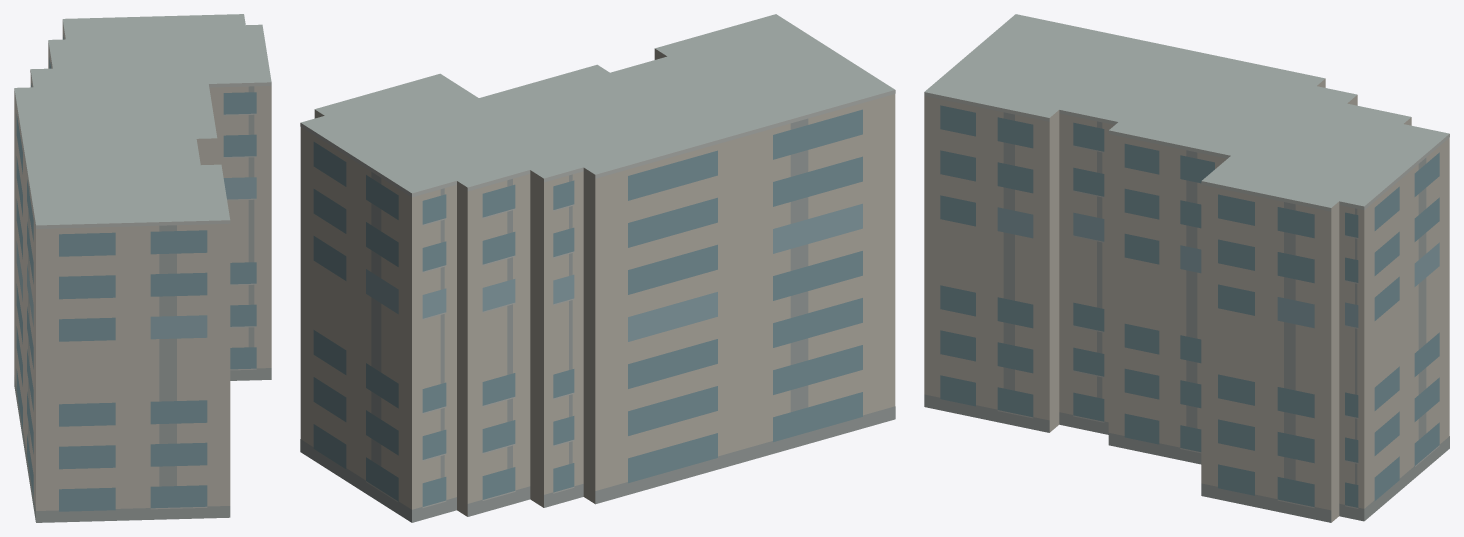
The model's file is survey-upis-32749530.glb.
3 views of the same model, side by side, from view 1: azimuth 30°, elevation 25°; view 2: azimuth 150°, elevation 25°; view 3: azimuth 270°, elevation 25° (orthographic). The views are drawn at different scales.
Visible parts, largest first — view 1: survey-upis-32749530.tmp; view 2: survey-upis-32749530.tmp; view 3: survey-upis-32749530.tmp.
Part boxes in pixels (<box>): survey-upis-32749530.tmp: <box>14,14,271,522</box>; survey-upis-32749530.tmp: <box>300,14,895,522</box>; survey-upis-32749530.tmp: <box>924,14,1449,522</box>.
Bounding box in the file's own units: 26.96 × 20.4 × 30.86.
